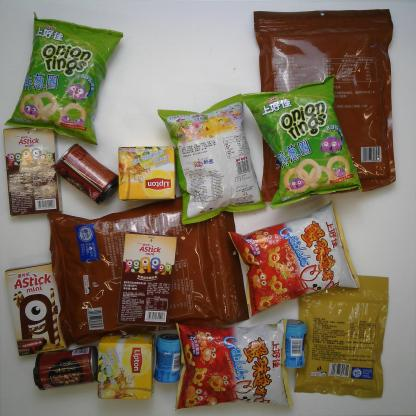Canned Food: (54, 144, 119, 205), (32, 344, 96, 392)
Dessert: (3, 262, 70, 356), (116, 231, 178, 327), (3, 124, 64, 218)
Dried Food: (45, 184, 250, 345), (252, 7, 397, 204)
Dried Fruit: (292, 268, 390, 399)
Gum: (277, 318, 307, 370), (152, 333, 182, 384)
Instant Drink: (95, 332, 155, 400), (117, 144, 178, 204)
Puffed Food: (2, 10, 124, 148), (242, 76, 362, 210), (226, 200, 362, 318), (156, 93, 267, 228), (174, 320, 295, 411)
